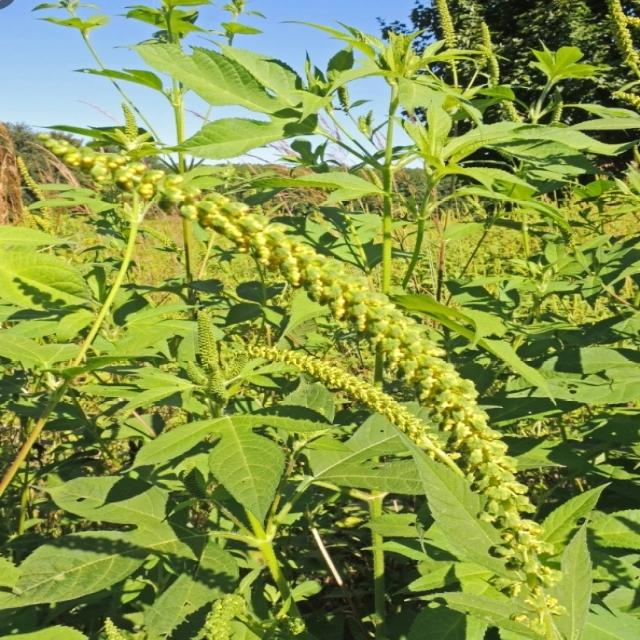ambrosia: (39, 124, 562, 616)
